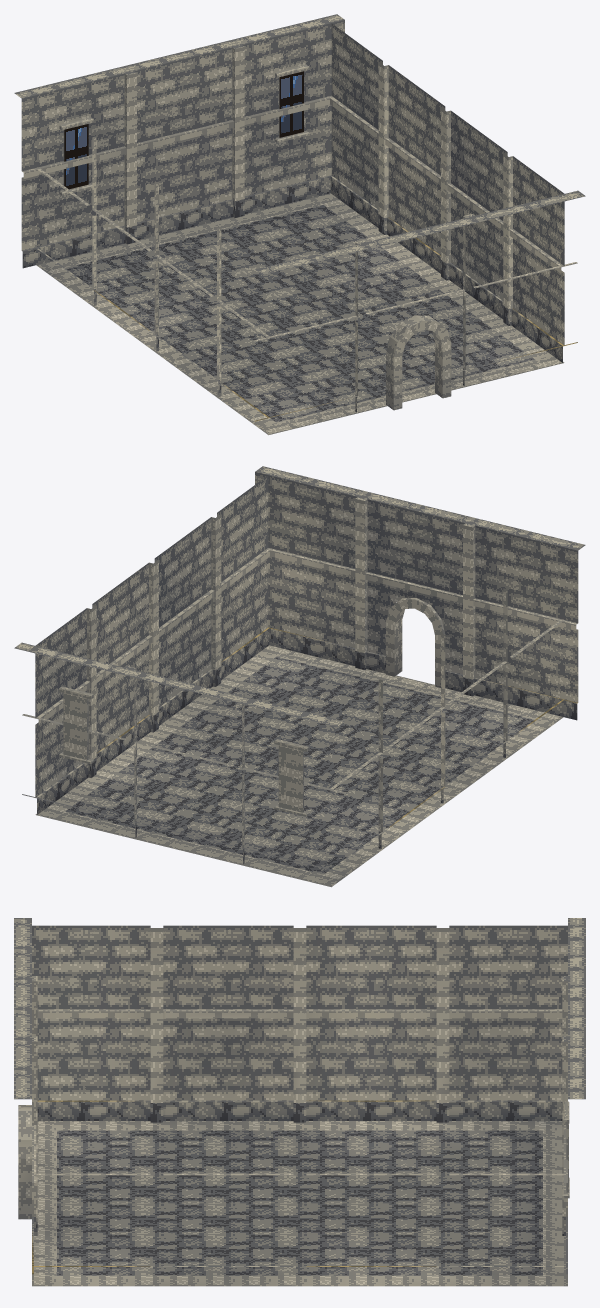
The model's file is cst.hall.glb.
The picture shows the model from 3 angles, top to bottom: view 1: azimuth 30°, elevation 25°; view 2: azimuth 150°, elevation 25°; view 3: azimuth 270°, elevation 25°; orthographic projection. The views are drawn at different scales.
Parts seen in each view (by area): view 1: kit_shell_walls, kit_shell_floor, kit_fittings; view 2: kit_shell_walls, kit_shell_floor, kit_fittings; view 3: kit_shell_walls, kit_shell_floor, kit_fittings.
Boxes of the visible parts, x1,y1,x2,y2 form: kit_shell_walls: [14, 14, 585, 421]; kit_shell_floor: [36, 193, 564, 435]; kit_fittings: [59, 64, 451, 410]; kit_shell_walls: [14, 466, 585, 873]; kit_shell_floor: [35, 645, 563, 887]; kit_fittings: [59, 598, 445, 816]; kit_shell_walls: [14, 918, 585, 1274]; kit_shell_floor: [32, 1121, 567, 1286]; kit_fittings: [18, 1101, 569, 1219].
Bounding box in the file's own units: 12 × 6 × 16.
Materials: 5 (5 with a texture image).
